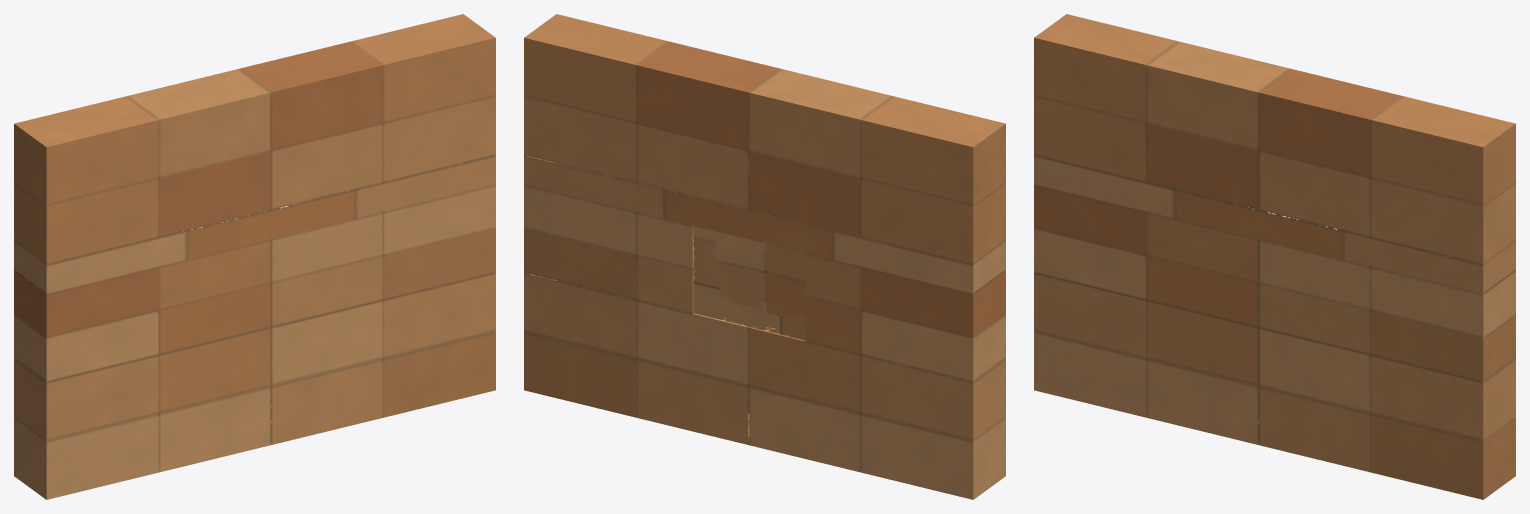
The picture shows the model from 3 angles, left to right: view 1: azimuth 30°, elevation 25°; view 2: azimuth 150°, elevation 25°; view 3: azimuth 330°, elevation 25°; orthographic projection.
Visible parts, largest first — view 1: ss09-sandstone-niche; view 2: ss09-sandstone-niche; view 3: ss09-sandstone-niche.
Part boxes in pixels (x1,y1,x2,y2): ss09-sandstone-niche: [14, 14, 495, 499]; ss09-sandstone-niche: [524, 14, 1005, 499]; ss09-sandstone-niche: [1034, 14, 1515, 499].
Bounding box in the file's own units: 400 × 300 × 50.
